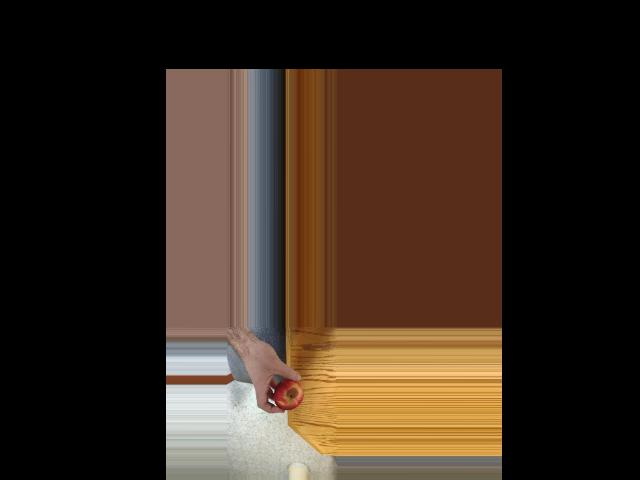apple: (268, 370, 305, 412)
